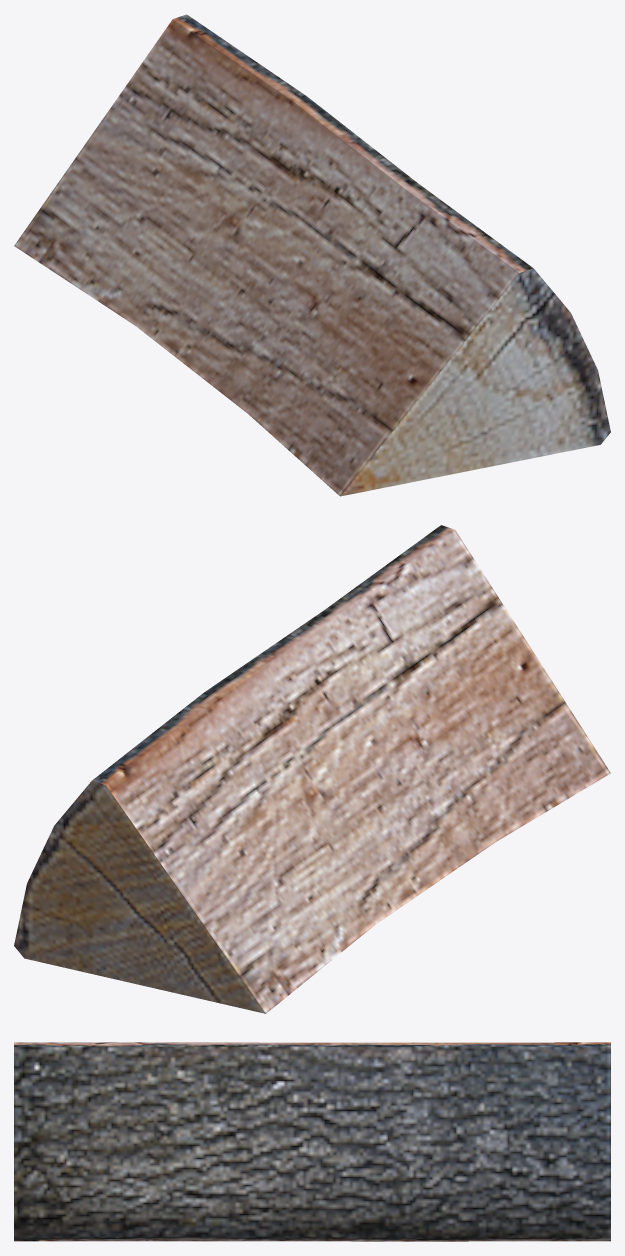
The model's file is FirewoodPoleno_5_5.FBX.
3 renders of one model, top to bottom at view 1: azimuth 30°, elevation 25°; view 2: azimuth 150°, elevation 25°; view 3: azimuth 270°, elevation 25°, orthographic. The views are drawn at different scales.
Parts seen in each view (by area): view 1: FirewoodPoleno_5_5; view 2: FirewoodPoleno_5_5; view 3: FirewoodPoleno_5_5.
Boxes of the visible parts, x1,y1,x2,y2 form: FirewoodPoleno_5_5: (14, 14, 610, 496); FirewoodPoleno_5_5: (14, 525, 610, 1013); FirewoodPoleno_5_5: (14, 1042, 610, 1241).
Bounding box in the file's own units: 21.89 × 15.55 × 50.09.
